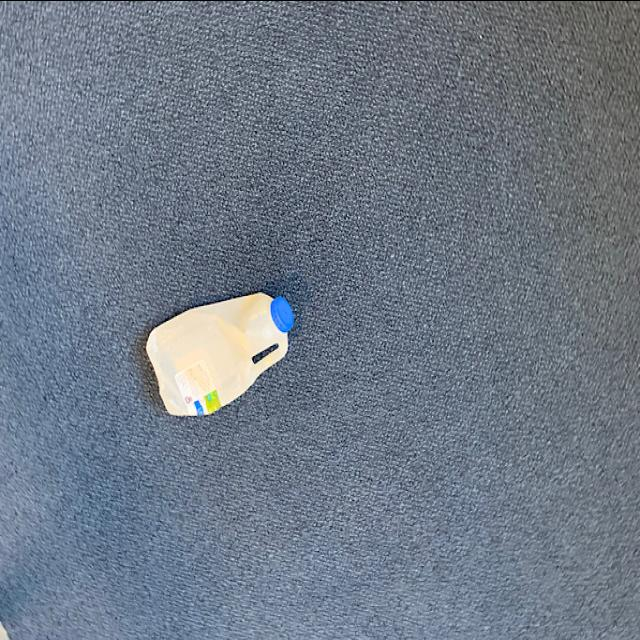HDPEM: (140, 286, 298, 422)
